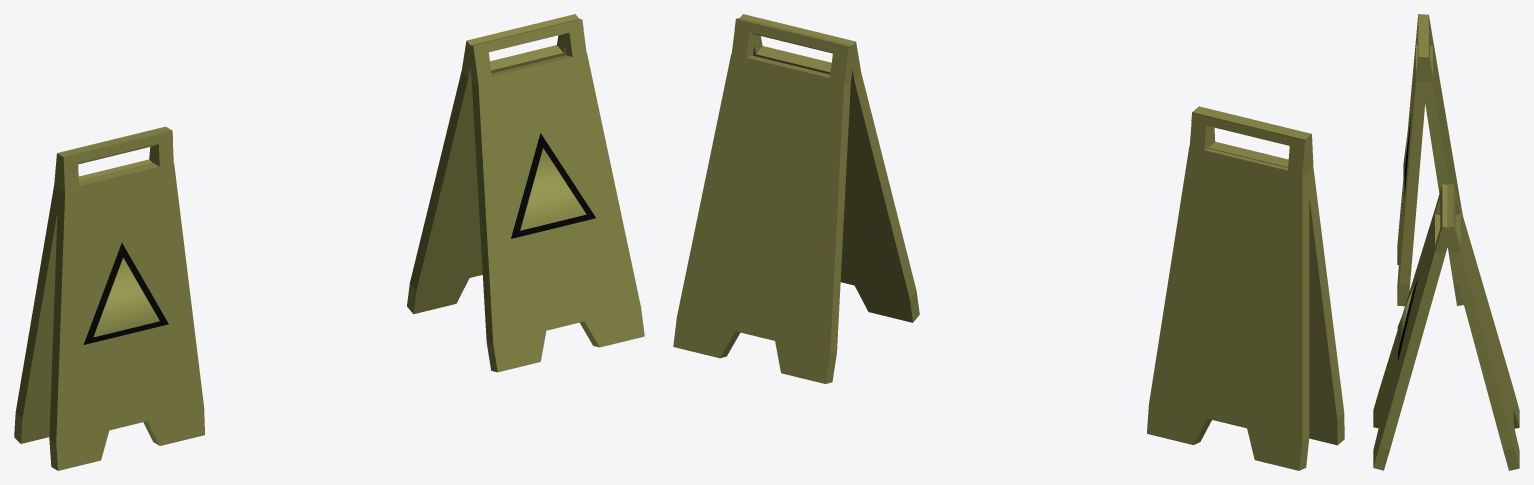
Rendered from FBX_WetFloorSign.fbx.
3 views of the same model, side by side, from view 1: azimuth 30°, elevation 25°; view 2: azimuth 150°, elevation 25°; view 3: azimuth 270°, elevation 25° (orthographic). The views are drawn at different scales.
Parts seen in each view (by area): view 1: pCube11, pCube12; view 2: pCube11, pCube12; view 3: pCube11, pCube12.
Boxes of the visible parts, x1=… form: pCube11: x1=407, y1=14, x2=644, y2=372; pCube12: x1=14, y1=126, x2=204, y2=470; pCube11: x1=673, y1=14, x2=919, y2=383; pCube12: x1=1147, y1=106, x2=1344, y2=470; pCube11: x1=1373, y1=183, x2=1519, y2=470; pCube12: x1=1397, y1=14, x2=1463, y2=306.
Size of the model in its own units: 1.42 by 0.7135 by 0.3911.
